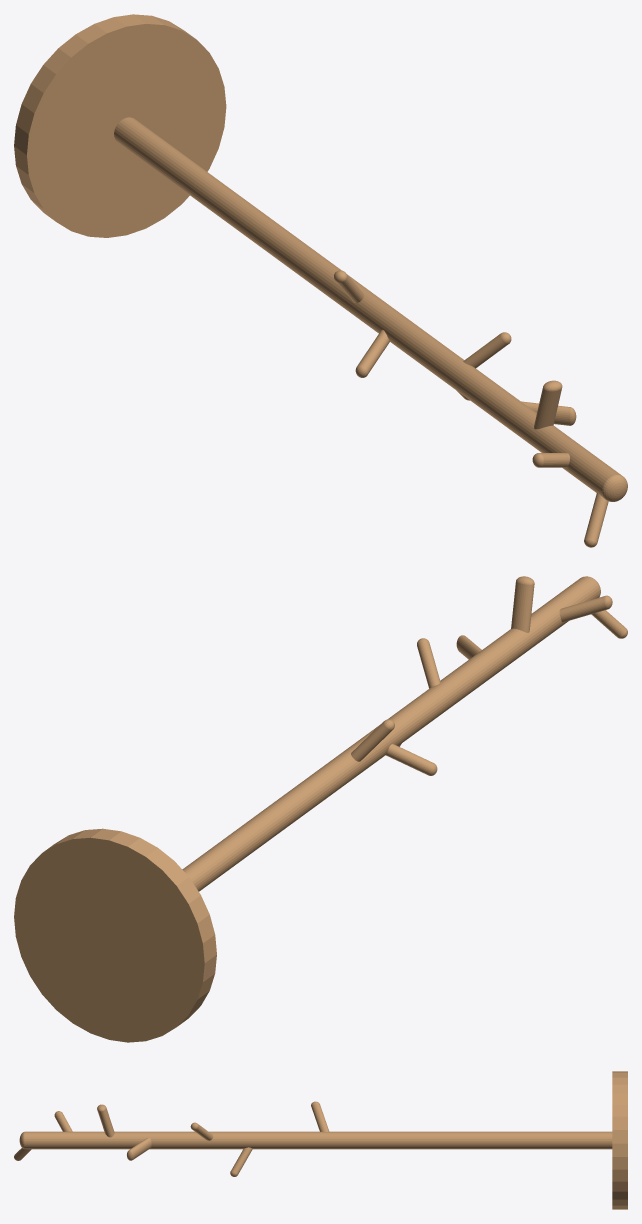
3 renders of one model, top to bottom at view 1: azimuth 30°, elevation 25°; view 2: azimuth 150°, elevation 25°; view 3: azimuth 270°, elevation 25°, orthographic. The views are drawn at different scales.
Visible parts, largest first — view 1: clothesstand.obj; view 2: clothesstand.obj; view 3: clothesstand.obj.
Boxes of the visible parts, left/top/right/bottom form: clothesstand.obj: left=14, top=14, right=627, bottom=547; clothesstand.obj: left=14, top=576, right=627, bottom=1042; clothesstand.obj: left=14, top=1071, right=627, bottom=1209.
Size of the model in its own units: 0.3937 by 0.3937 by 1.74.
